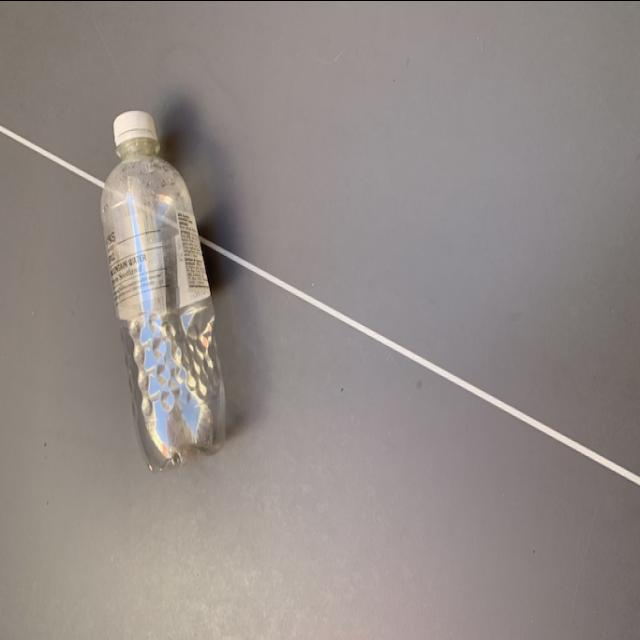litter: (96, 109, 232, 469)
